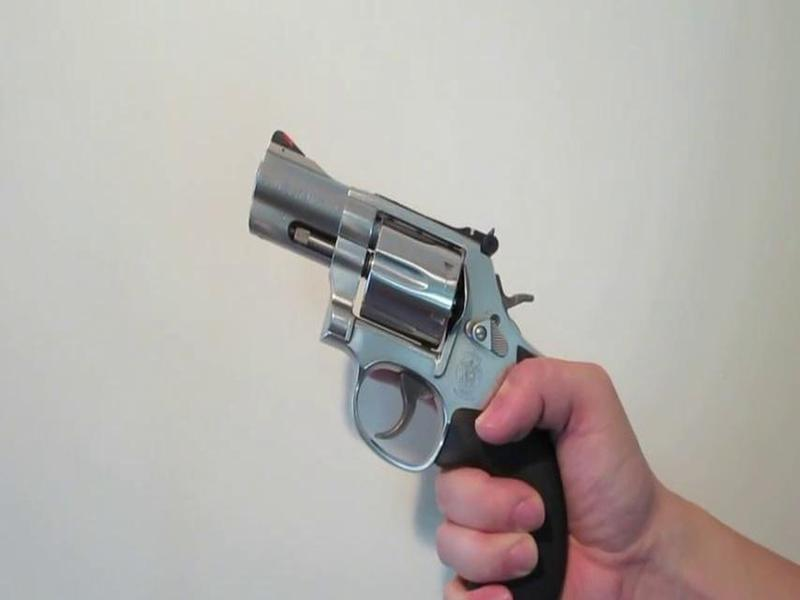Revolver: (242, 114, 607, 577)
